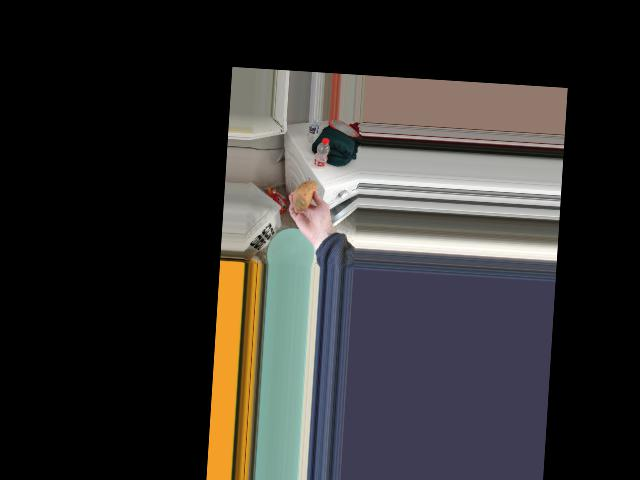sweet_potato: (292, 179, 316, 209)
